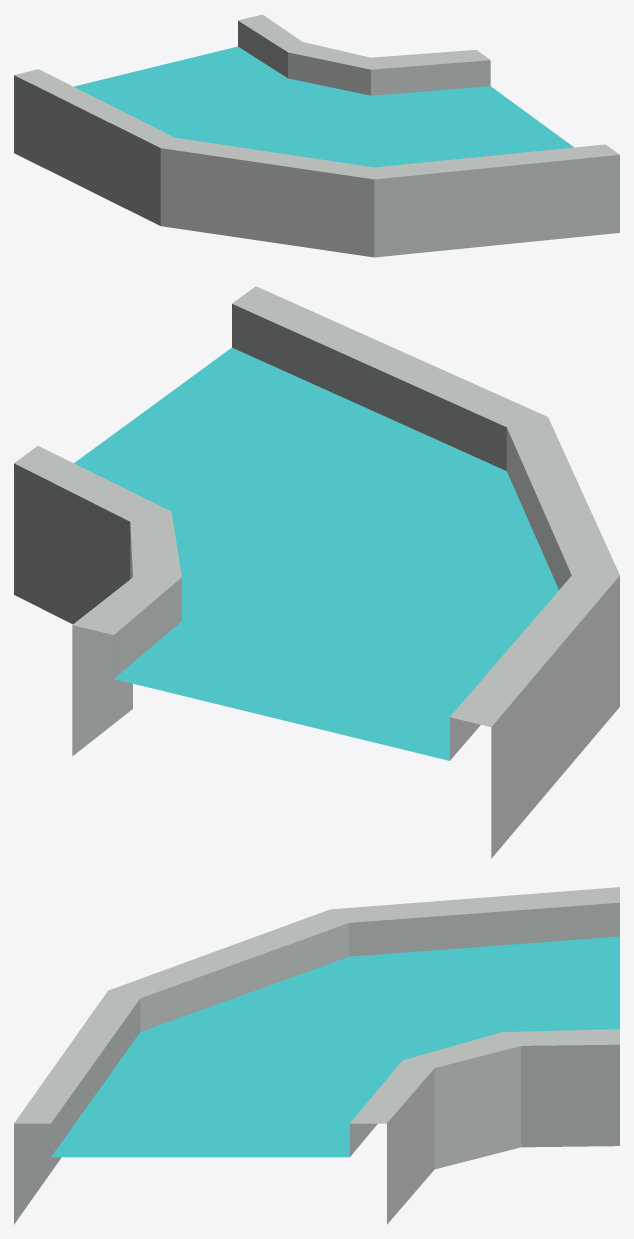
File: Water_Ride_C_Left.fbx
The picture shows the model from 3 angles, top to bottom: view 1: azimuth 30°, elevation 25°; view 2: azimuth 150°, elevation 25°; view 3: azimuth 270°, elevation 25°; orthographic projection. The views are drawn at different scales.
Visible parts, largest first — view 1: Water_Ride_C_L; view 2: Water_Ride_C_L; view 3: Water_Ride_C_L.
Boxes of the visible parts, x1,y1,x2,y2 form: Water_Ride_C_L: [14, 14, 619, 257]; Water_Ride_C_L: [14, 286, 619, 858]; Water_Ride_C_L: [14, 887, 619, 1224].
Bounding box in the file's own units: 600 × 120 × 650.
